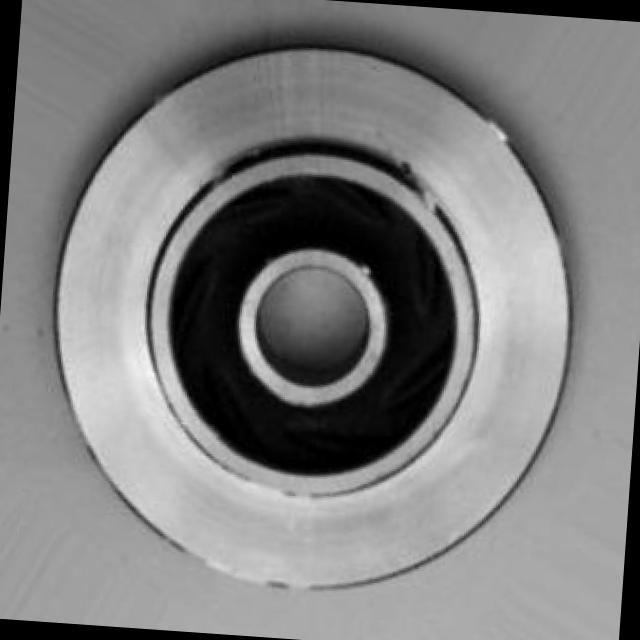Defect: (396, 150, 458, 229)
